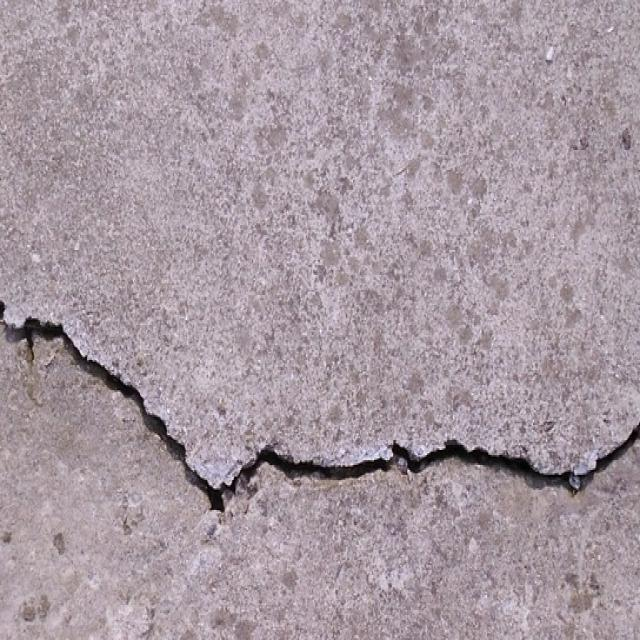Diagonal: (6, 292, 223, 534)
Transverse: (240, 416, 640, 508)
